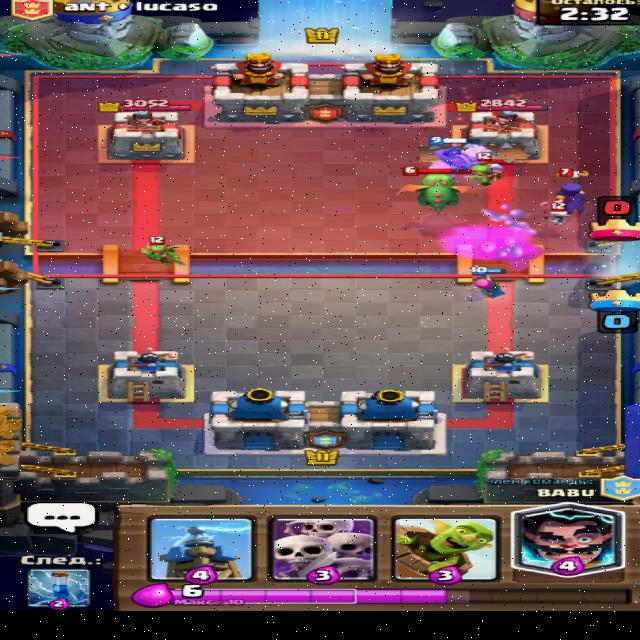Enemy-BabyDragon: (391, 165, 480, 212)
Enemy-Skeleton: (540, 202, 570, 227)
Enemy-SpearGoblin: (137, 235, 184, 267), (464, 152, 504, 186)
Enemy-Witch: (549, 167, 589, 215)
Player-Archer: (465, 265, 504, 299)
Player-HogRider: (424, 136, 487, 173)
